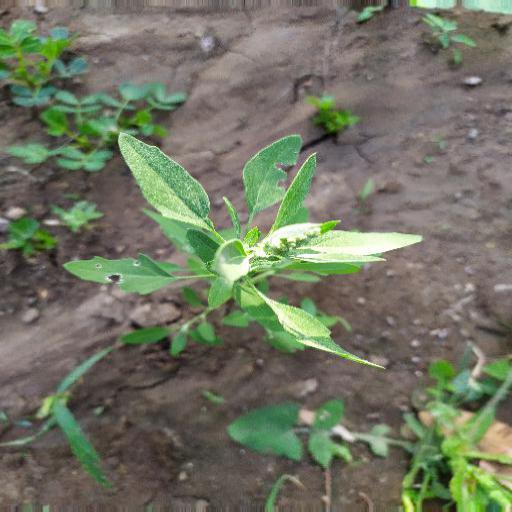weed: (57, 106, 429, 472)
